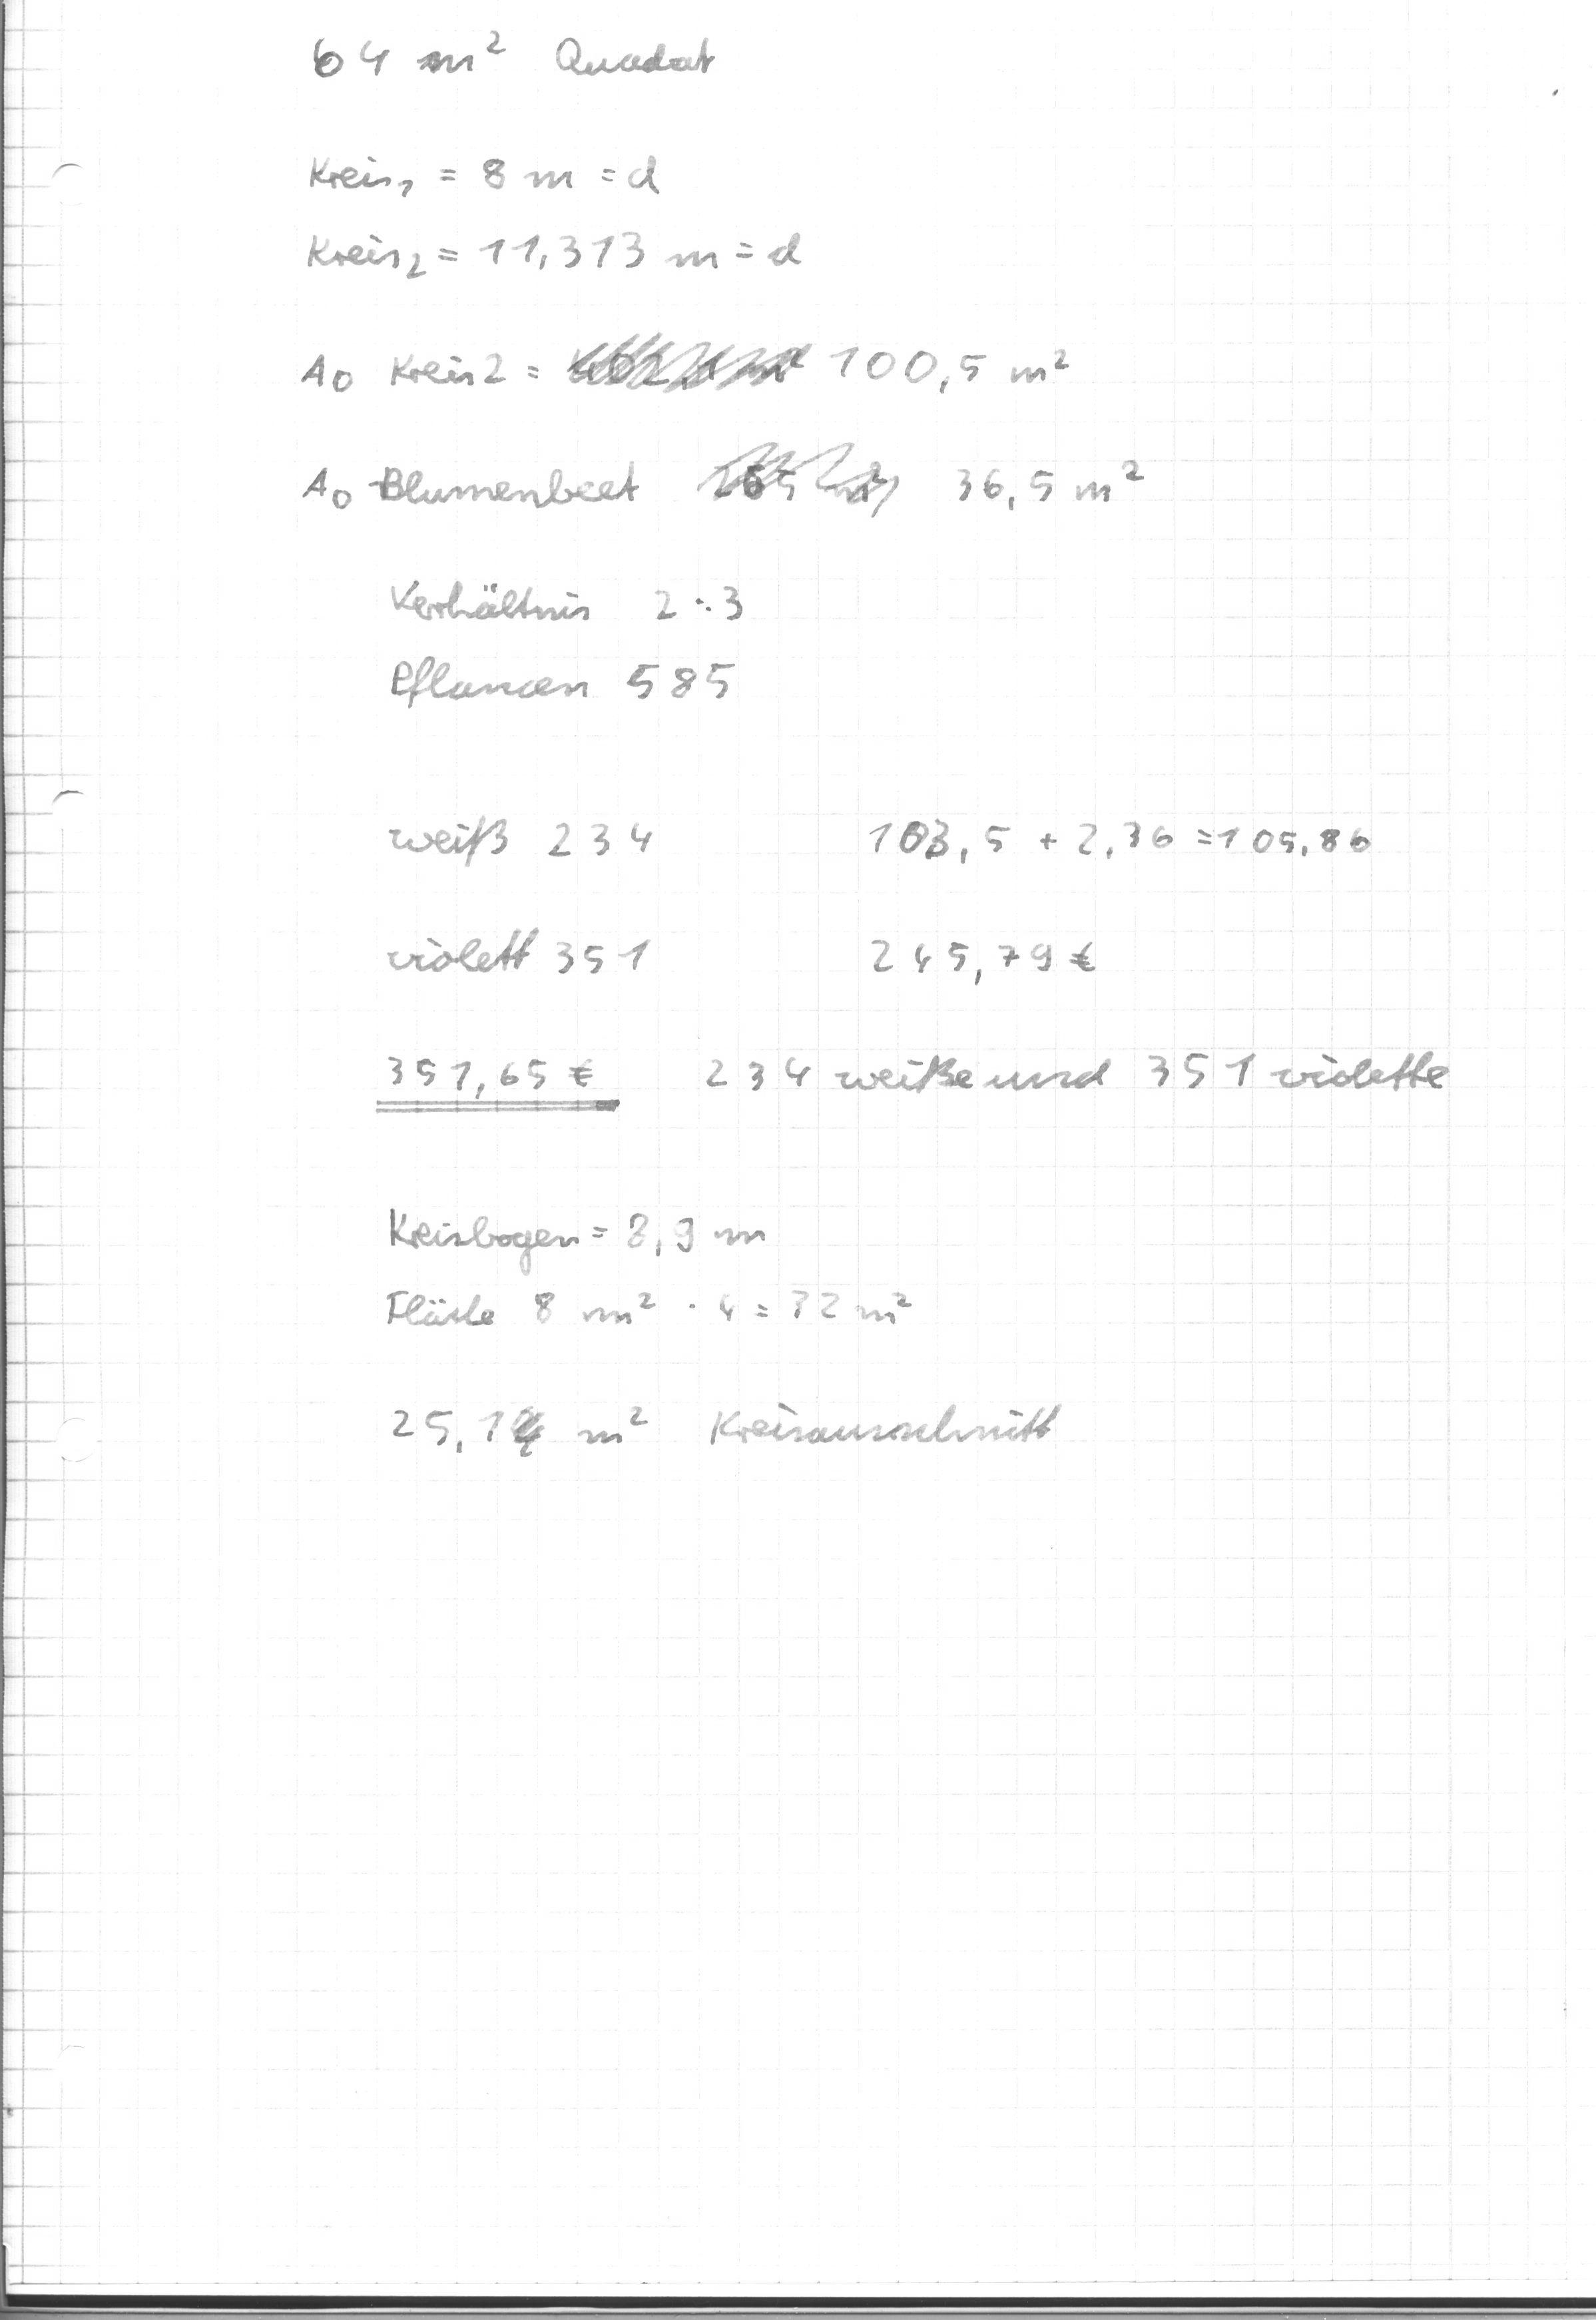word: (346, 794, 1473, 1149), (258, 304, 1183, 554), (274, 7, 836, 294), (344, 1375, 1097, 1506), (366, 1185, 930, 1353), (344, 554, 800, 742)
